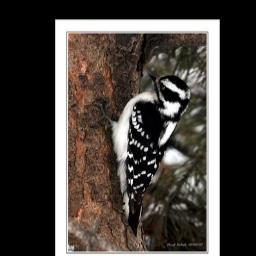Woodpecker: (95, 74, 191, 242)
